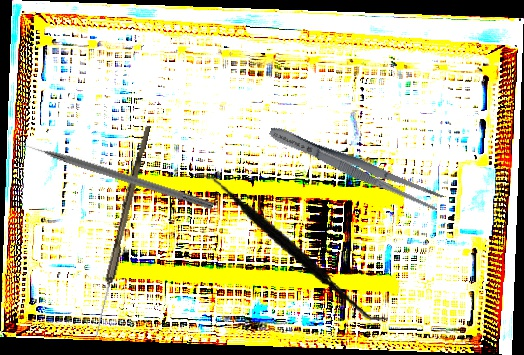Dressing Forceps: (265, 120, 445, 214)
Hook Surgical: (13, 136, 215, 211)
Spatula Surgical: (179, 170, 405, 323)
Surgical Spoon: (92, 124, 151, 338)
